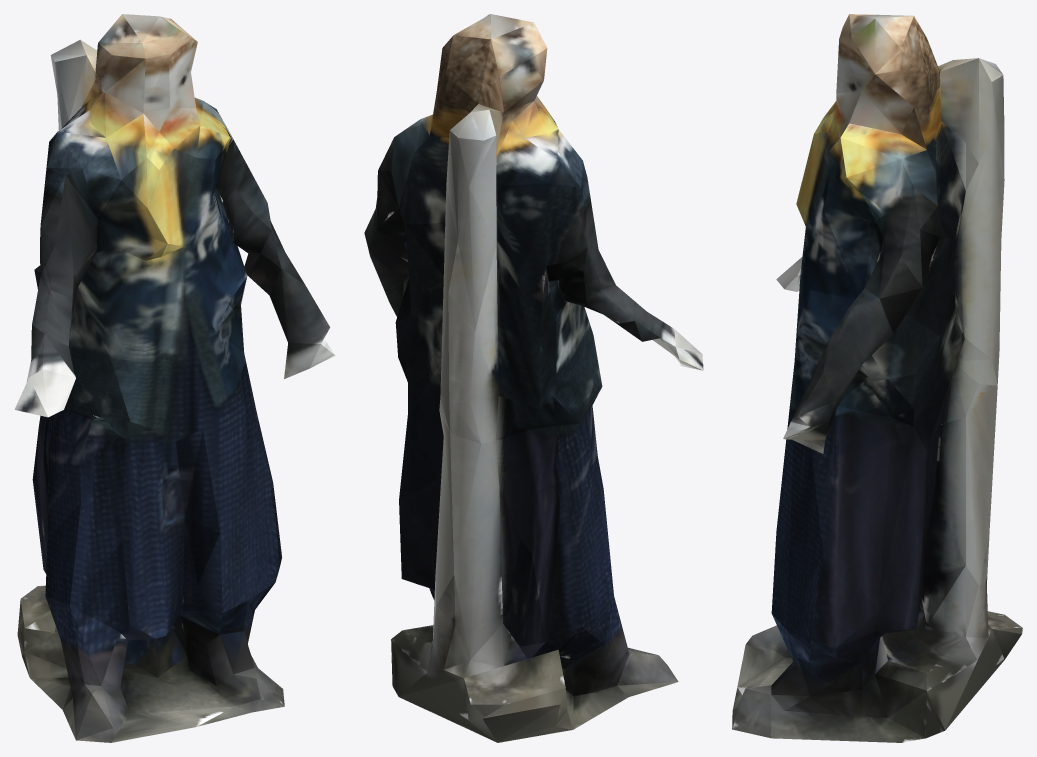
Rendered from kakashi_20b.fbx.
3 renders of one model, left to right at view 1: azimuth 30°, elevation 25°; view 2: azimuth 150°, elevation 25°; view 3: azimuth 270°, elevation 25°, orthographic. The views are drawn at different scales.
Visible parts, largest first — view 1: MeshS; view 2: MeshS; view 3: MeshS.
Part boxes in pixels (x1,y1,x2,y2): MeshS: (14,14,335,742); MeshS: (364,14,703,742); MeshS: (732,14,1022,742).
Bounding box in the file's own units: 13.02 × 26.31 × 10.15.
1 material, 1 textured.
